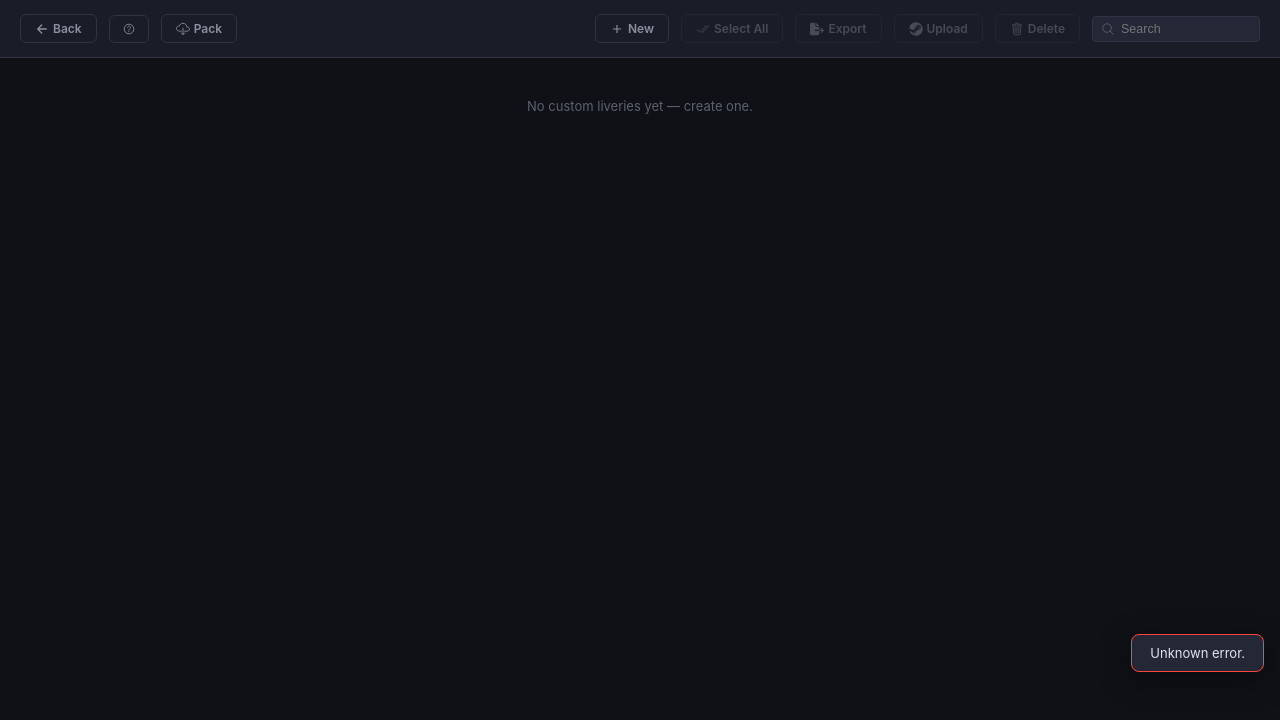
LiveryScreen › header Pack button opens the install modal + overlay
Click the button "Pack" at {"x": 199, "y": 28}, box [161,14,237,43]
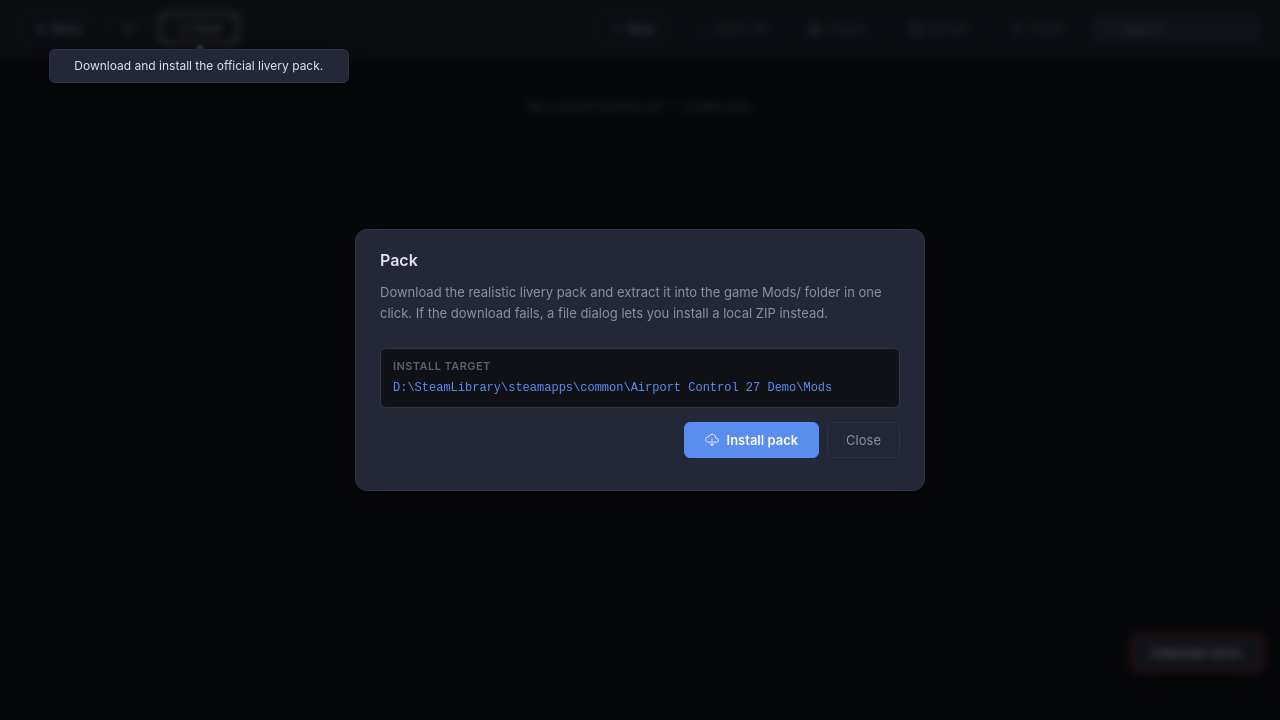
expect the text "extract it into the game Mods/ folder" is shown: met, box [380,284,882,321]
expect the button with class "livery-install-btn" is shown: met
expect the button with class "livery-install-btn" reads "Install pack": met
Click the button with class "livery-install-btn" at {"x": 751, "y": 440}, box [684,422,819,458]
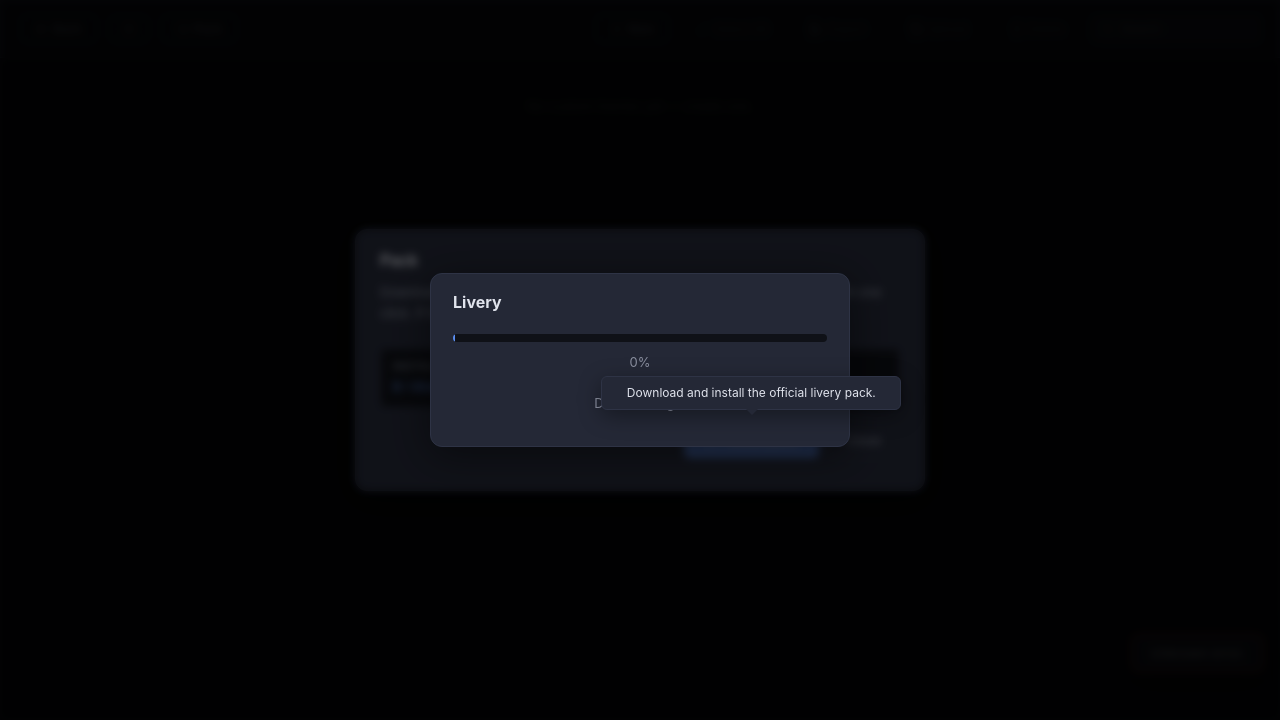
expect the element with id "livery-overlay" is shown: met
